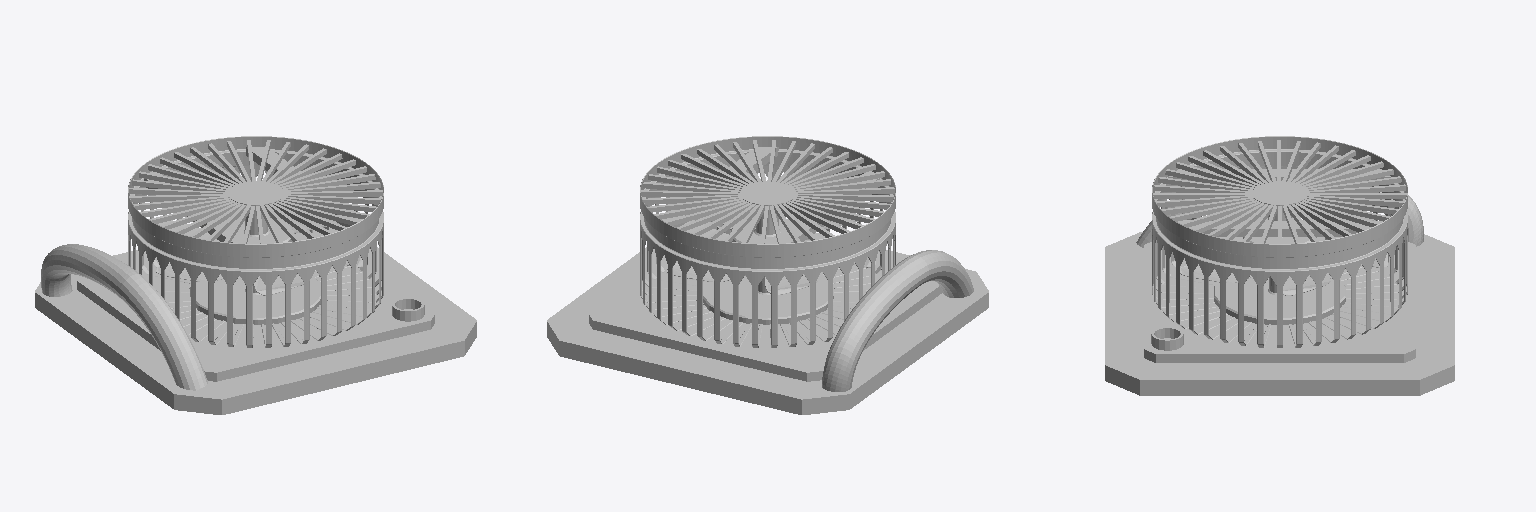
File: Electric Fan.obj
3 views of the same model, side by side, from view 1: azimuth 30°, elevation 25°; view 2: azimuth 150°, elevation 25°; view 3: azimuth 270°, elevation 25° (orthographic).
Parts seen in each view (by area): view 1: Box043; view 2: Box043; view 3: Box043.
Boxes of the visible parts, box(x1,y1,x2,y2) form: Box043: box(35, 136, 476, 414); Box043: box(547, 136, 988, 414); Box043: box(1105, 136, 1454, 395).
Bounding box in the file's own units: 169 × 70.47 × 169.